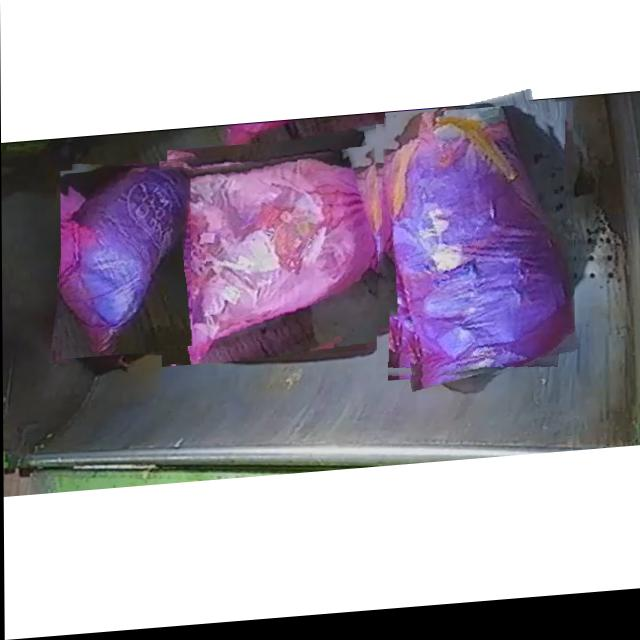other_trashbag: (380, 115, 573, 385), (160, 162, 384, 369), (58, 168, 190, 348)
